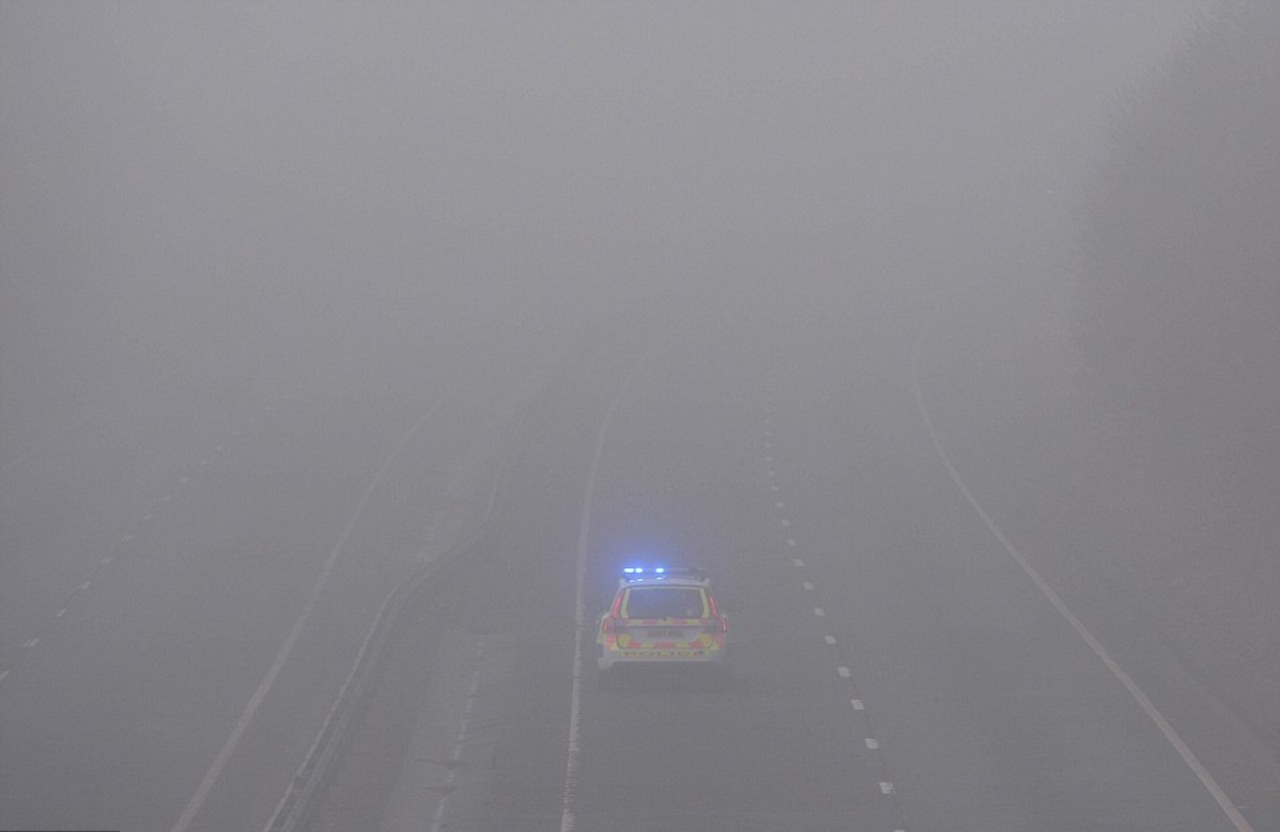car: (593, 574, 729, 680)
